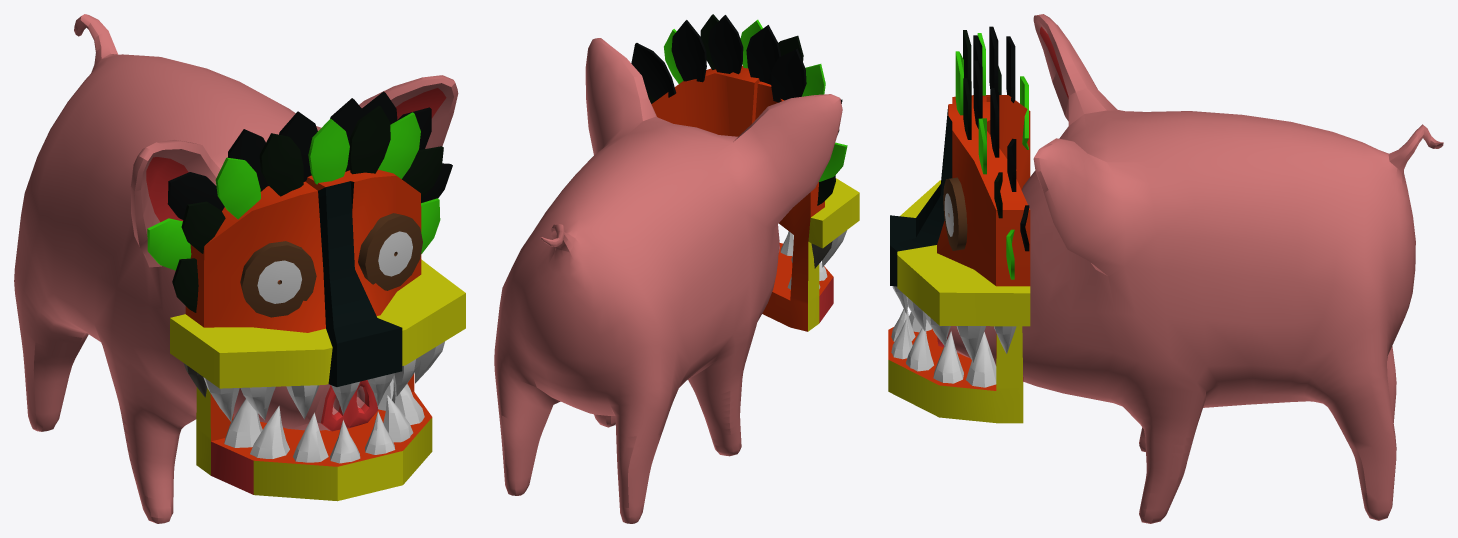
The model's file is quetzalcerdo.fbx.
3 renders of one model, left to right at view 1: azimuth 30°, elevation 25°; view 2: azimuth 150°, elevation 25°; view 3: azimuth 270°, elevation 25°, orthographic. The views are drawn at different scales.
Visible parts, largest first — view 1: Quetzqlcerdo; view 2: Quetzqlcerdo; view 3: Quetzqlcerdo.
Boxes of the visible parts, <box> form: Quetzqlcerdo: <box>14,14,465,523</box>; Quetzqlcerdo: <box>494,14,859,523</box>; Quetzqlcerdo: <box>888,14,1443,523</box>.
Size of the model in its own units: 73.42 by 101 by 117.
